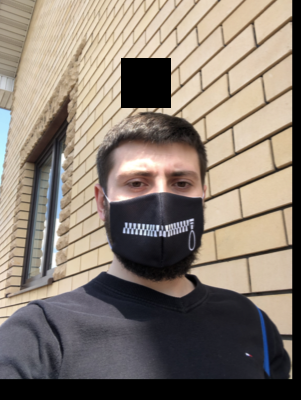with_mask: (104, 157, 209, 281)
